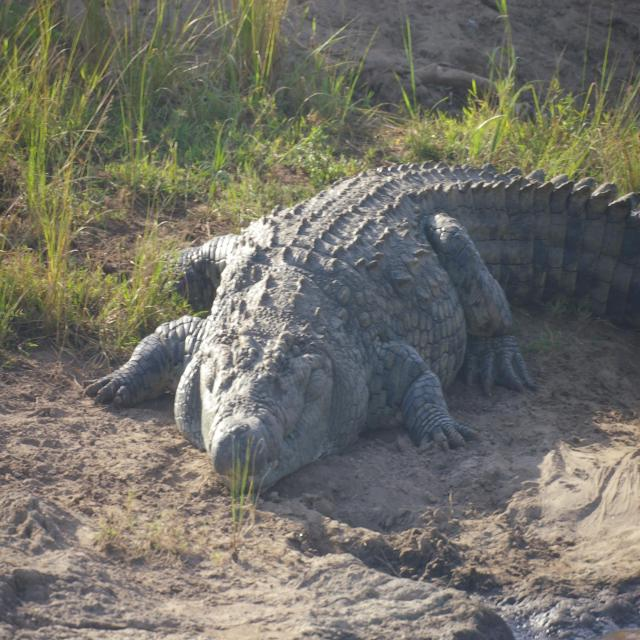crocodile: (89, 170, 640, 497)
